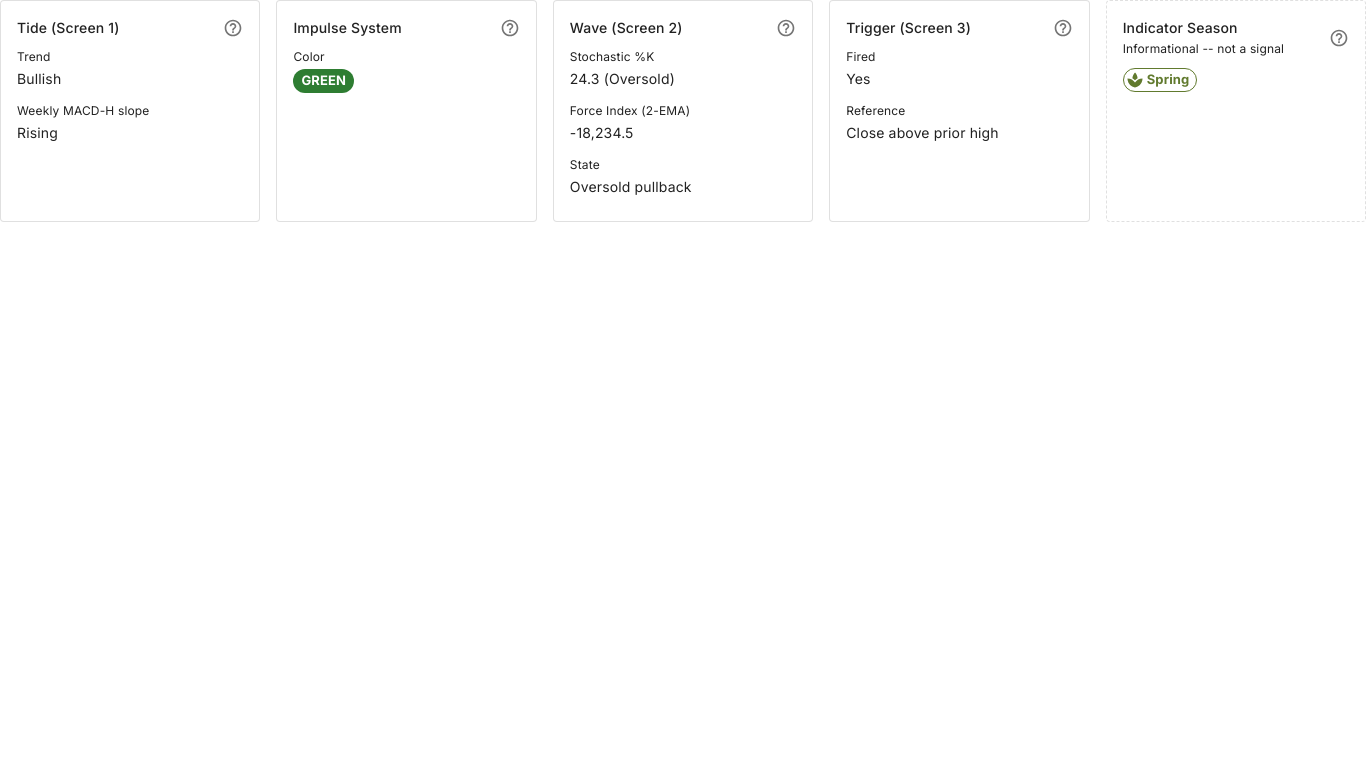
Test: ScreensPanel › wires the season MetricHelp to carry Elder's Spring/Autumn best-entry insight
Click the button named "Indicator Season help" at point(1339, 38), box [1329,28,1349,48]
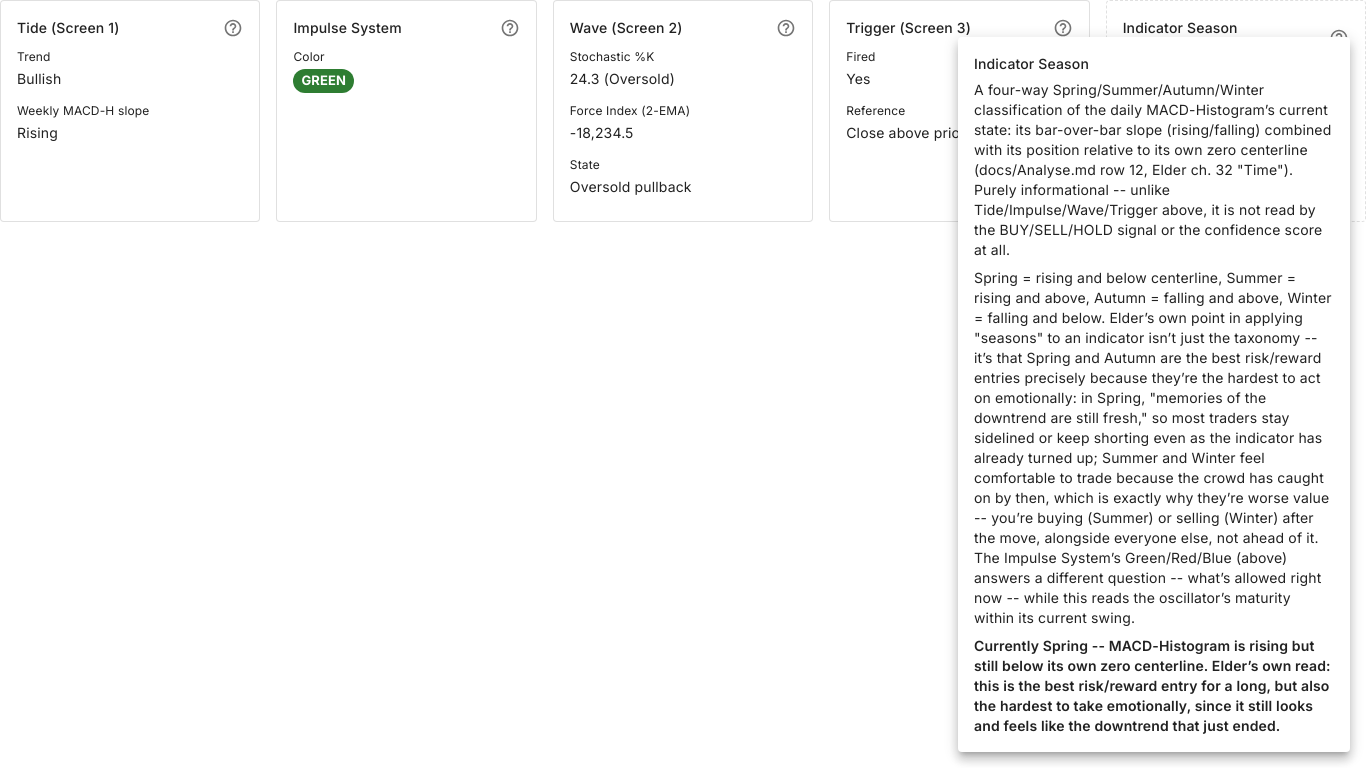
Check: the text "best risk/reward entry for a long" is shown, box [974,637,1331,734]
